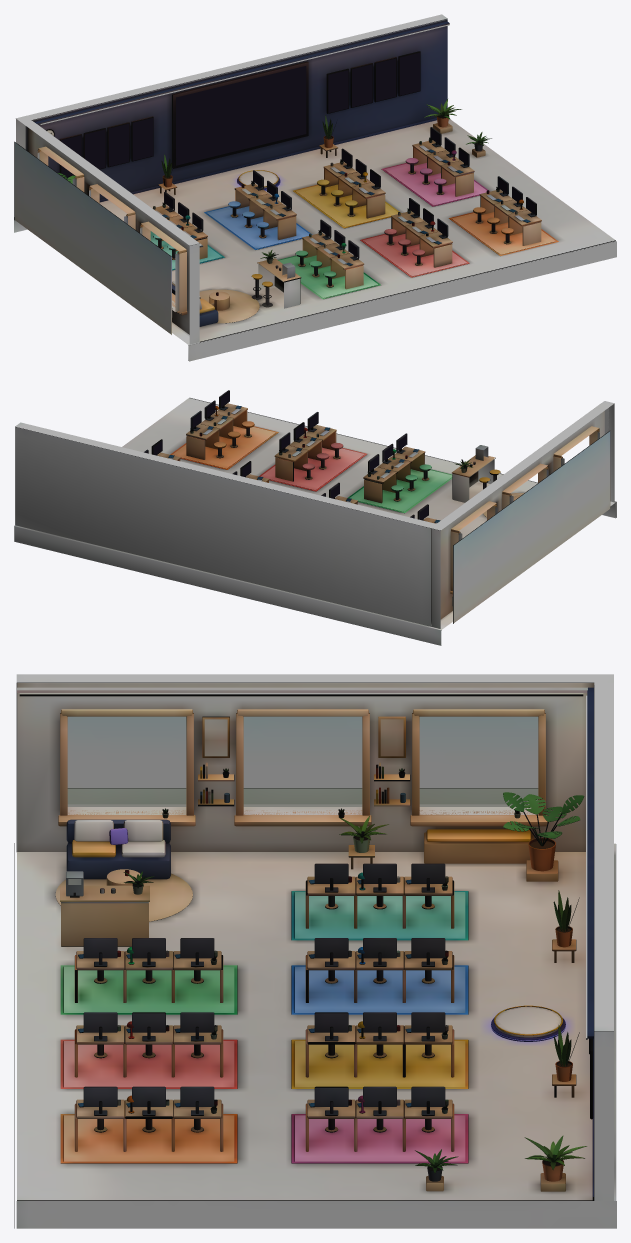
The model's file is room.glb.
3 views of the same model, one above another, from view 1: azimuth 30°, elevation 25°; view 2: azimuth 150°, elevation 25°; view 3: azimuth 270°, elevation 25° (orthographic). The views are drawn at different scales.
Visible parts, largest first — view 1: room, screen_main, wall_ours_4, wall_trend_4, wall_trend_1, wall_trend_2, wall_trend_3, wall_ours_3, wall_ours_2; view 2: room; view 3: room.
Boxes of the visible parts, <box> form: room: <box>14,14,616,361</box>; screen_main: <box>176,66,306,165</box>; wall_ours_4: <box>132,118,153,160</box>; wall_trend_4: <box>399,52,420,95</box>; wall_trend_1: <box>328,70,348,113</box>; wall_trend_2: <box>352,64,372,107</box>; wall_trend_3: <box>376,58,396,101</box>; wall_ours_3: <box>109,123,129,166</box>; wall_ours_2: <box>85,129,105,169</box>; room: <box>14,390,616,645</box>; room: <box>14,674,616,1228</box>.
Bounding box in the file's own units: 15.62 × 3.96 × 10.97.
2 materials, 1 textured.
